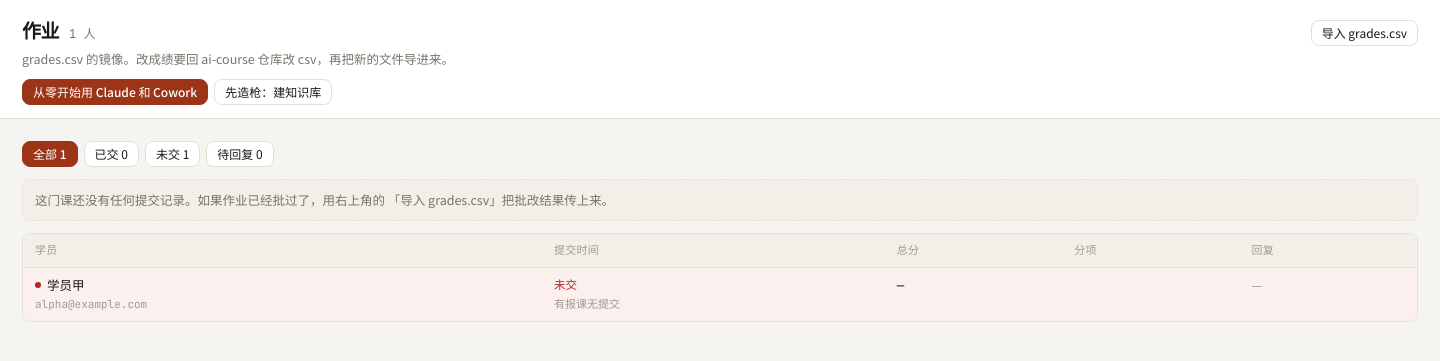
详情面板 › 没交的人不显示分数区，而是说明他为什么没有
Click the row with test id "homework-alpha@example.com": (720, 294) [23,267,1417,321]
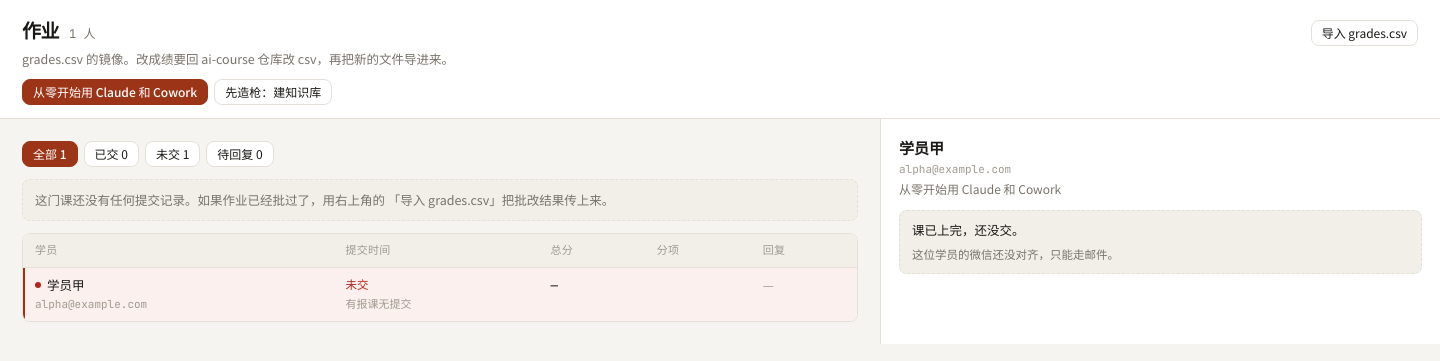
Expected: the text "课已上完，还没交。" is shown, [912,220,1024,239]
